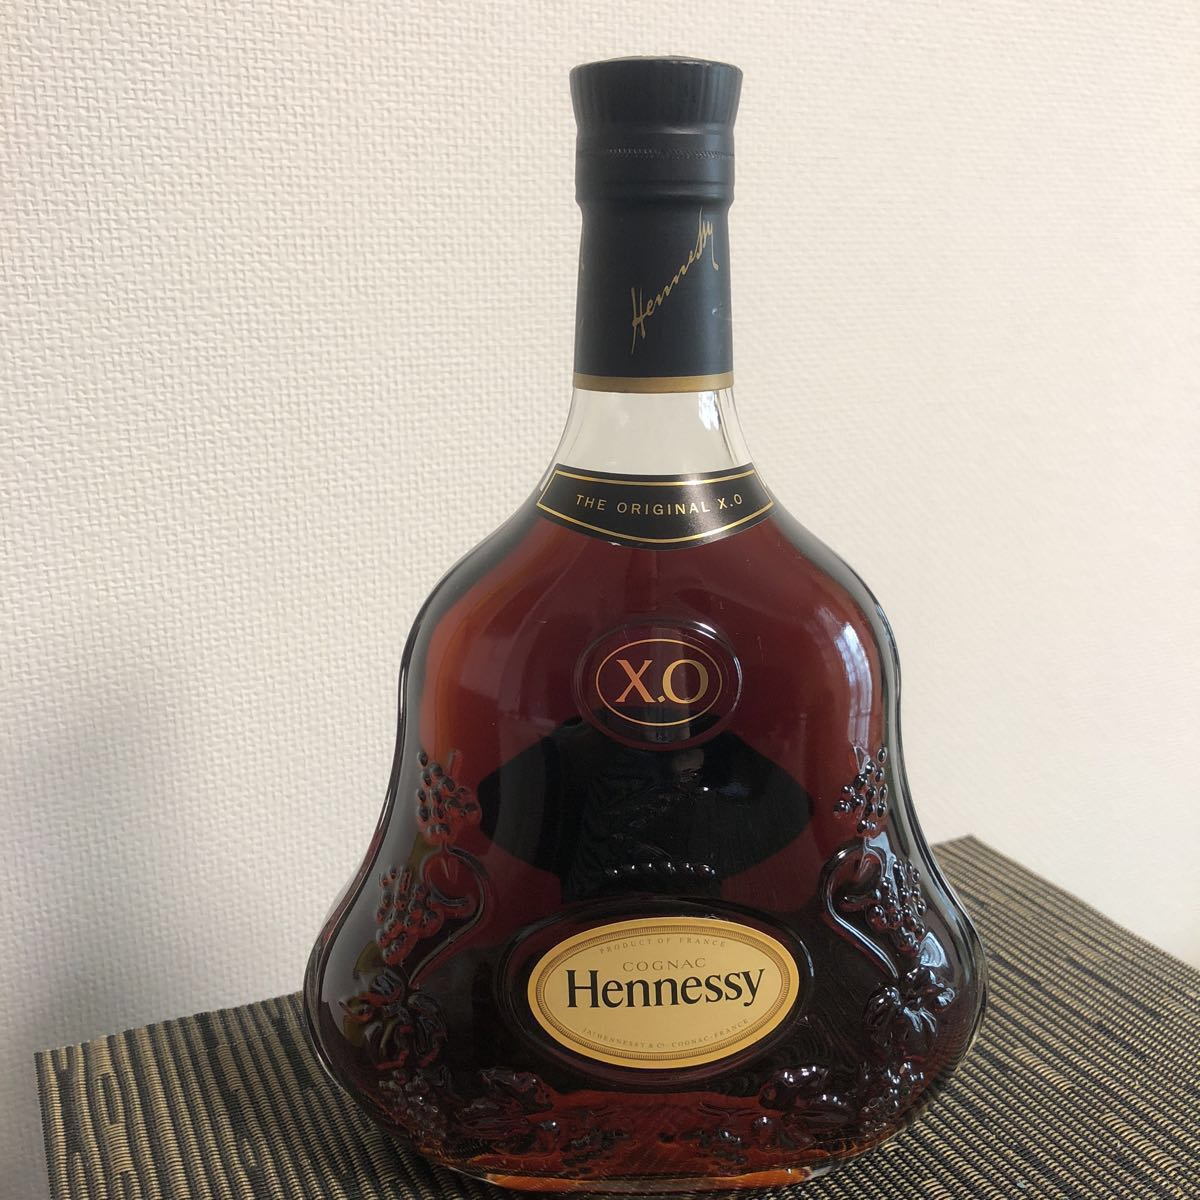Hennessy: (265, 31, 1027, 1200)
